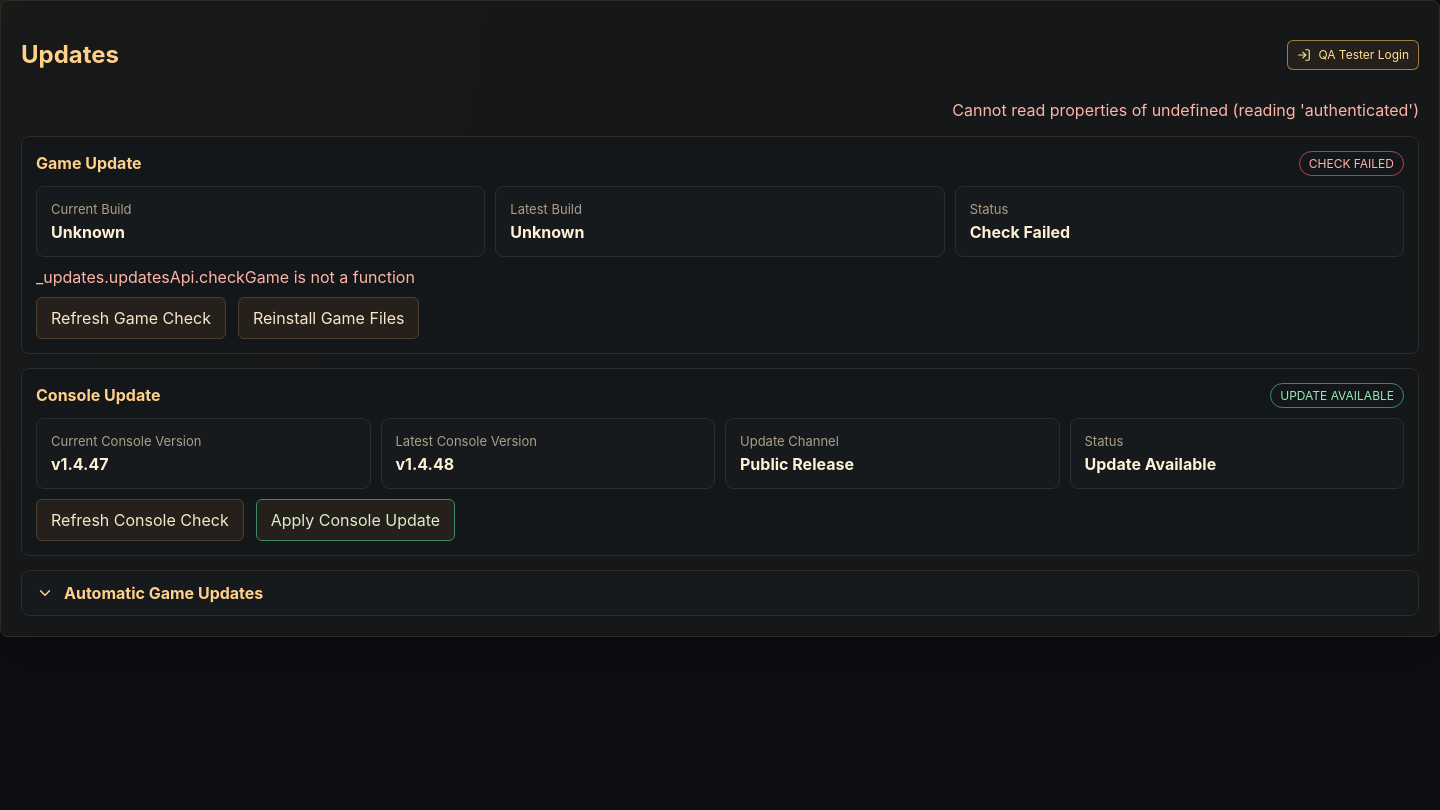
Test: a failed access preflight prevents starting an update
Click the button "Apply Console Update": (355, 520) [256, 499, 455, 541]
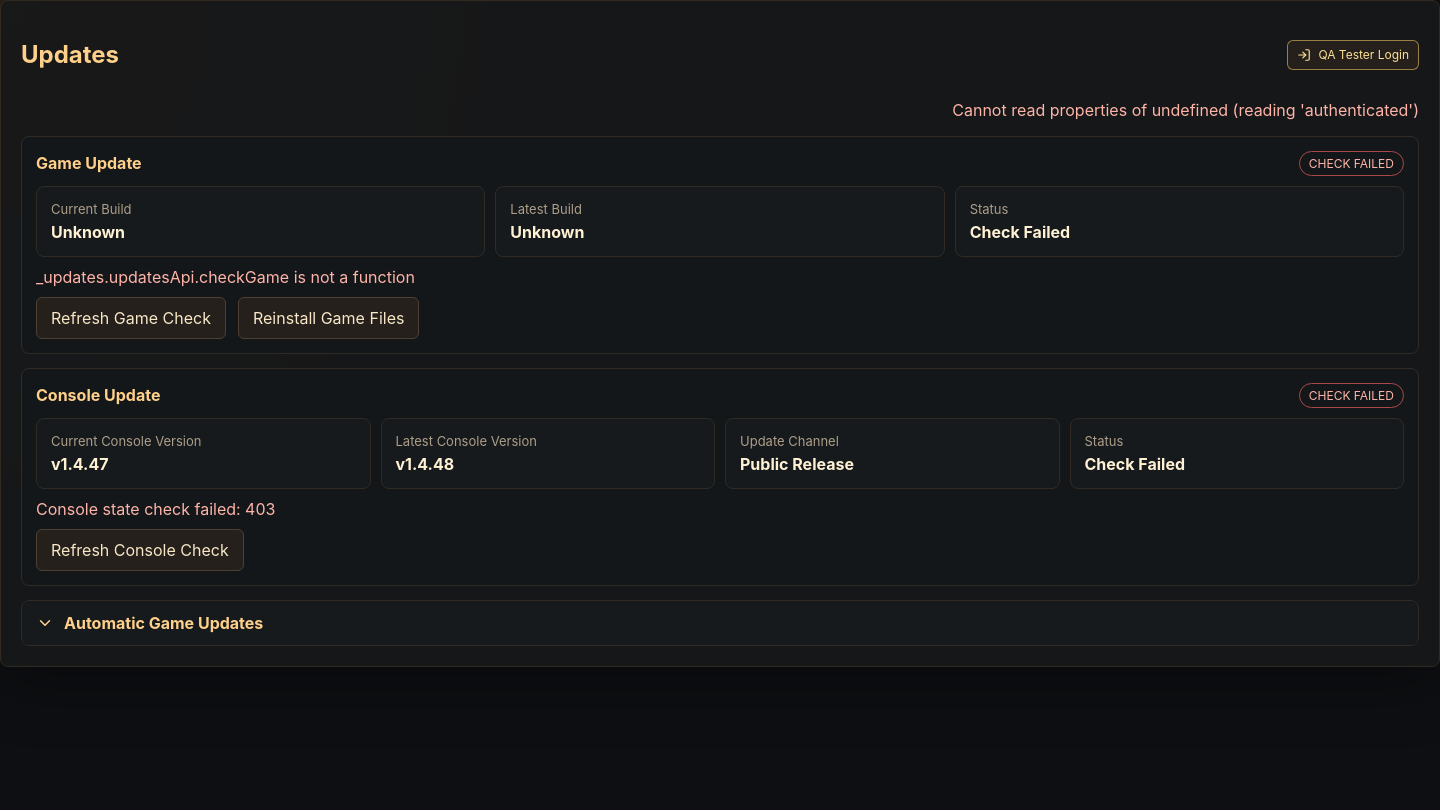
Check: the text "Console state check failed: 403" is shown, box [36, 499, 275, 519]
